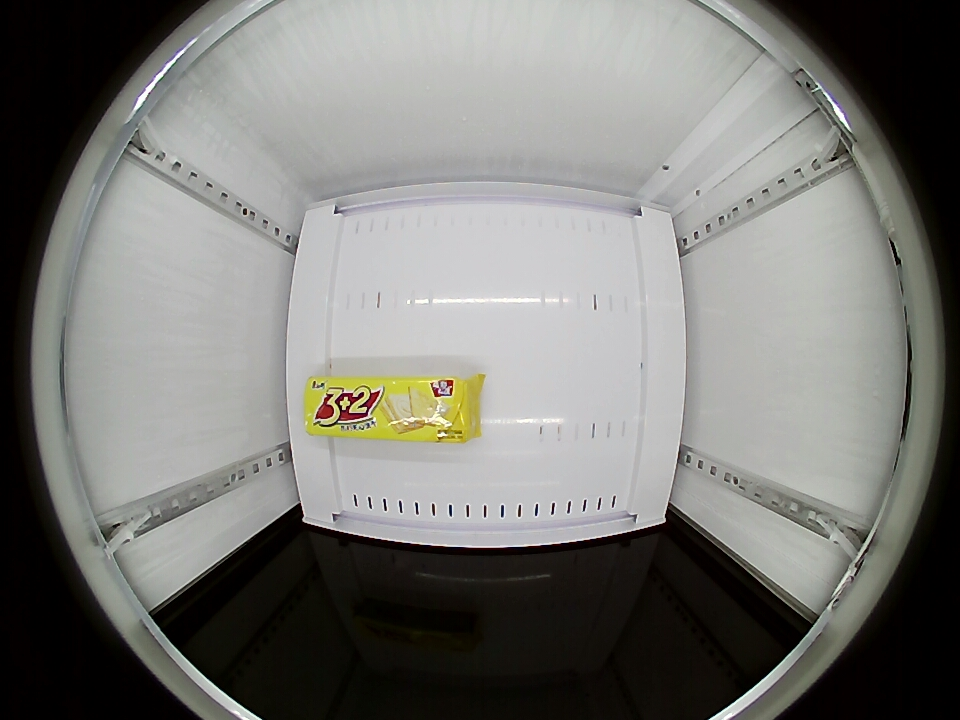3+2-2: (303, 376, 476, 441)
